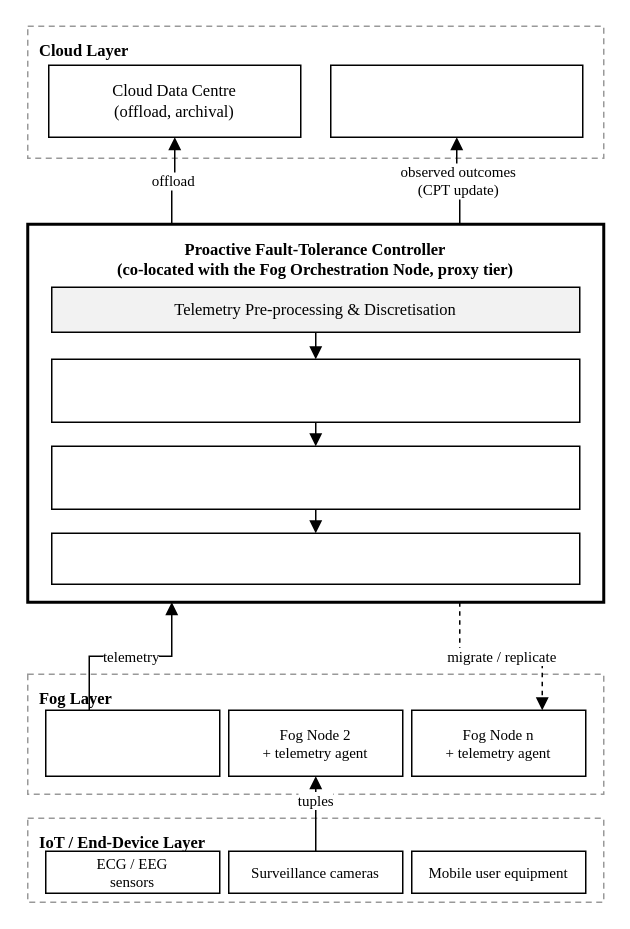
This 630x929 diagram has some shape labels left out. Each missing label, with the centre of its shape:
"Fog Node 1 + telemetry agent" goes at [132,742].
"Model & CPT Repository" goes at [456,100].
"N1 — BBN Inference Engine P(F = fail | e) within horizon Δt" goes at [315,390].
"N2 — Risk-Aware Placement and Expected-Loss Migration" goes at [315,477].
"N3 — Criticality-Aware Selective Replication" goes at [315,558].
